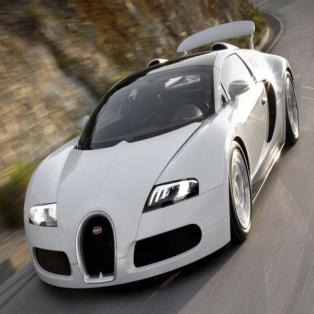Auto: (23, 21, 299, 290)
